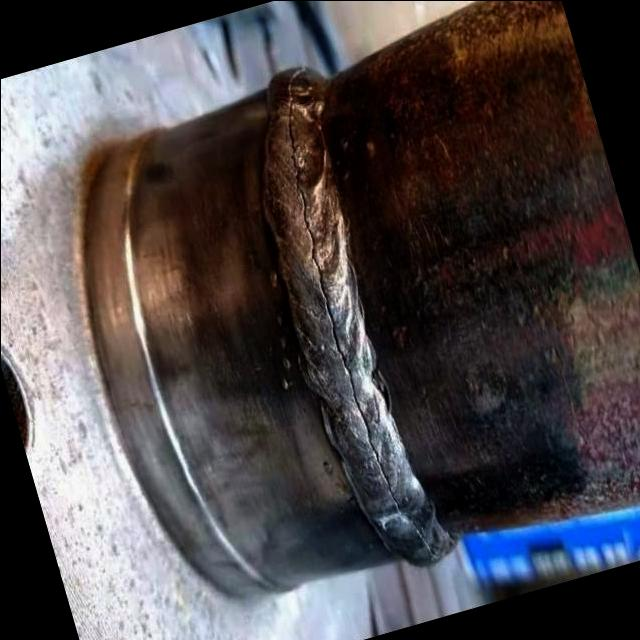defect: (281, 65, 437, 570)
